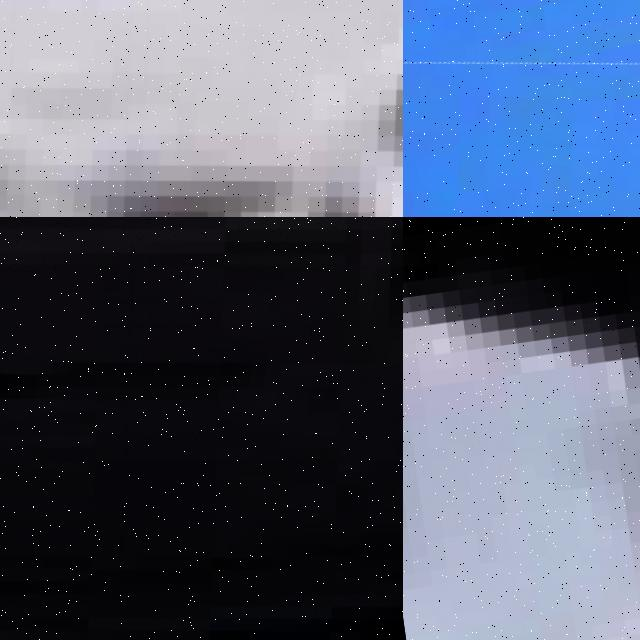drone: (0, 217, 403, 640), (0, 0, 403, 217), (403, 11, 640, 217)
